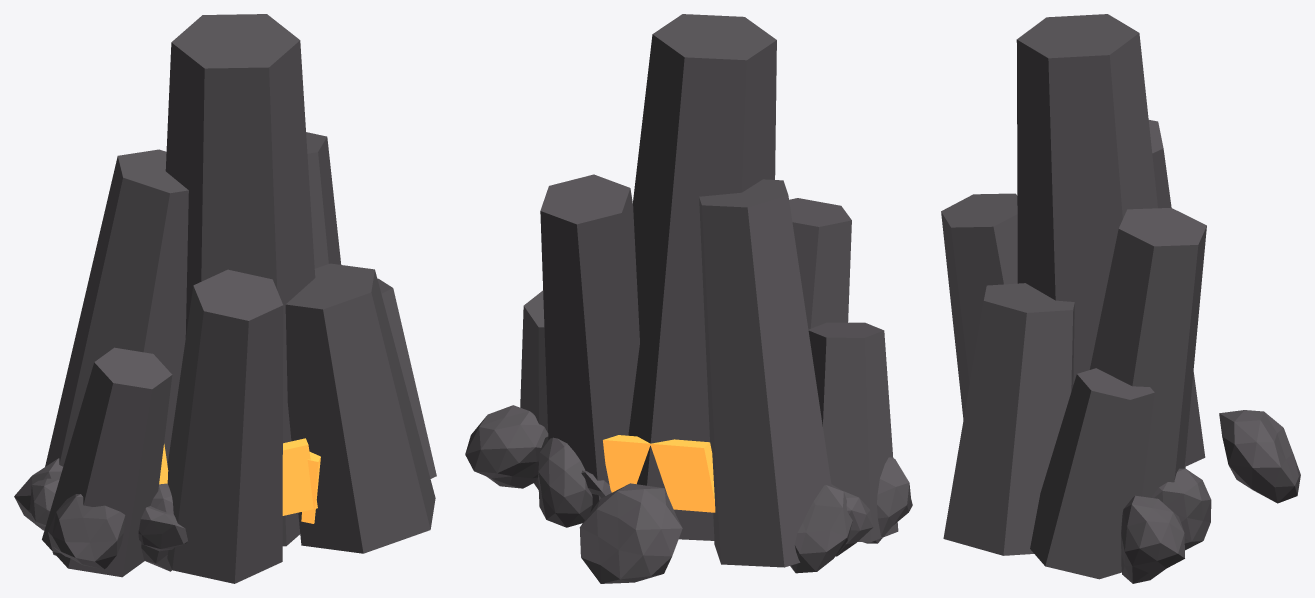
File: volcano_basalt_spire.glb
The picture shows the model from 3 angles, left to right: view 1: azimuth 30°, elevation 25°; view 2: azimuth 150°, elevation 25°; view 3: azimuth 270°, elevation 25°; orthographic projection. The views are drawn at different scales.
Visible parts, largest first — view 1: VolcanoBasaltSpire; view 2: VolcanoBasaltSpire; view 3: VolcanoBasaltSpire.
Part boxes in pixels (left/top/right/bottom): VolcanoBasaltSpire: left=14, top=14, right=436, bottom=583; VolcanoBasaltSpire: left=465, top=14, right=912, bottom=583; VolcanoBasaltSpire: left=941, top=14, right=1300, bottom=583.
Bounding box in the file's own units: 13.41 × 15.94 × 10.97.
